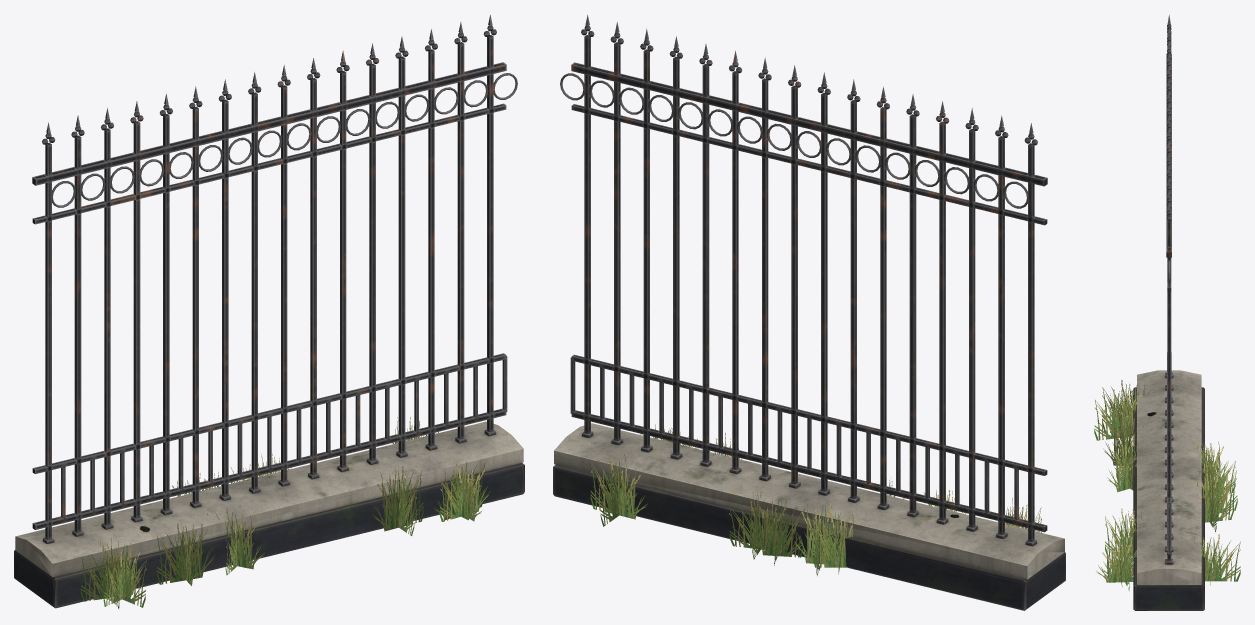
The model's file is Railing8.fbx.
3 renders of one model, left to right at view 1: azimuth 30°, elevation 25°; view 2: azimuth 150°, elevation 25°; view 3: azimuth 270°, elevation 25°, orthographic. The views are drawn at different scales.
Parts seen in each view (by area): view 1: Railing8_Main, Railing8_Leaves; view 2: Railing8_Main, Railing8_Leaves; view 3: Railing8_Main, Railing8_Leaves.
Part boxes in pixels (bbox=[...]): Railing8_Main: bbox=[14, 15, 524, 608]; Railing8_Leaves: bbox=[80, 416, 490, 608]; Railing8_Main: bbox=[553, 15, 1065, 610]; Railing8_Leaves: bbox=[590, 424, 1041, 575]; Railing8_Main: bbox=[1133, 14, 1204, 610]; Railing8_Leaves: bbox=[1094, 380, 1240, 590].
Bounding box in the file's own units: 821 × 761 × 250.
